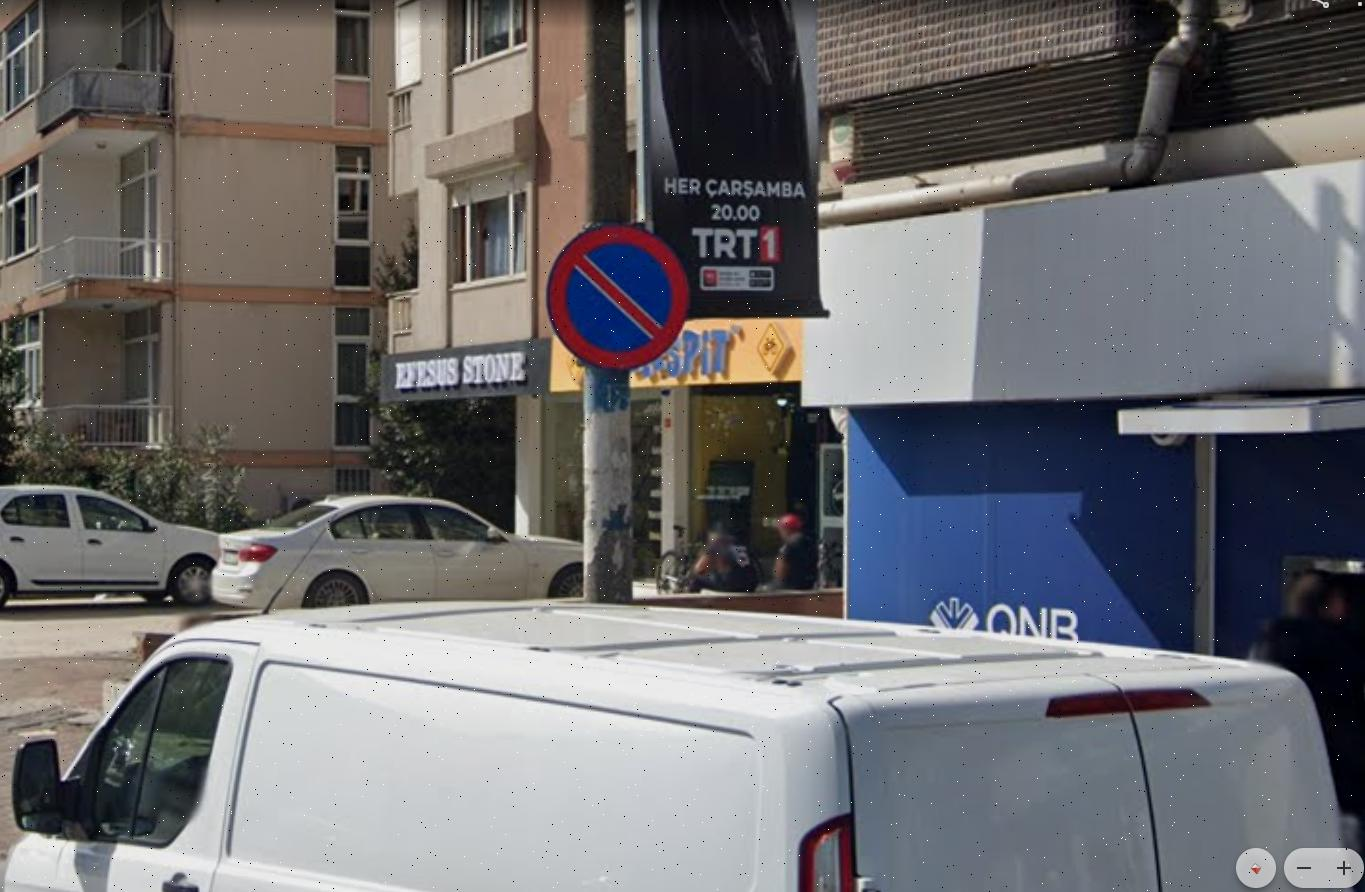nopark: (548, 228, 690, 372)
